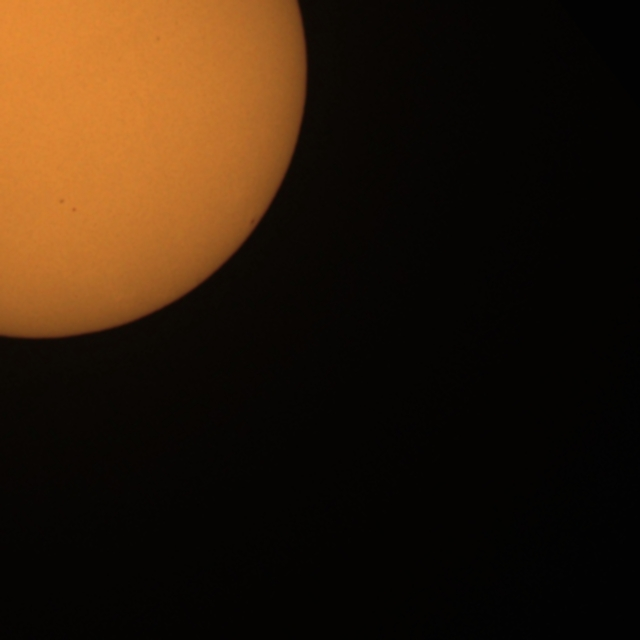sunspot: (58, 198, 78, 214), (249, 216, 257, 227), (154, 34, 162, 44), (58, 197, 66, 205), (71, 206, 78, 214)
